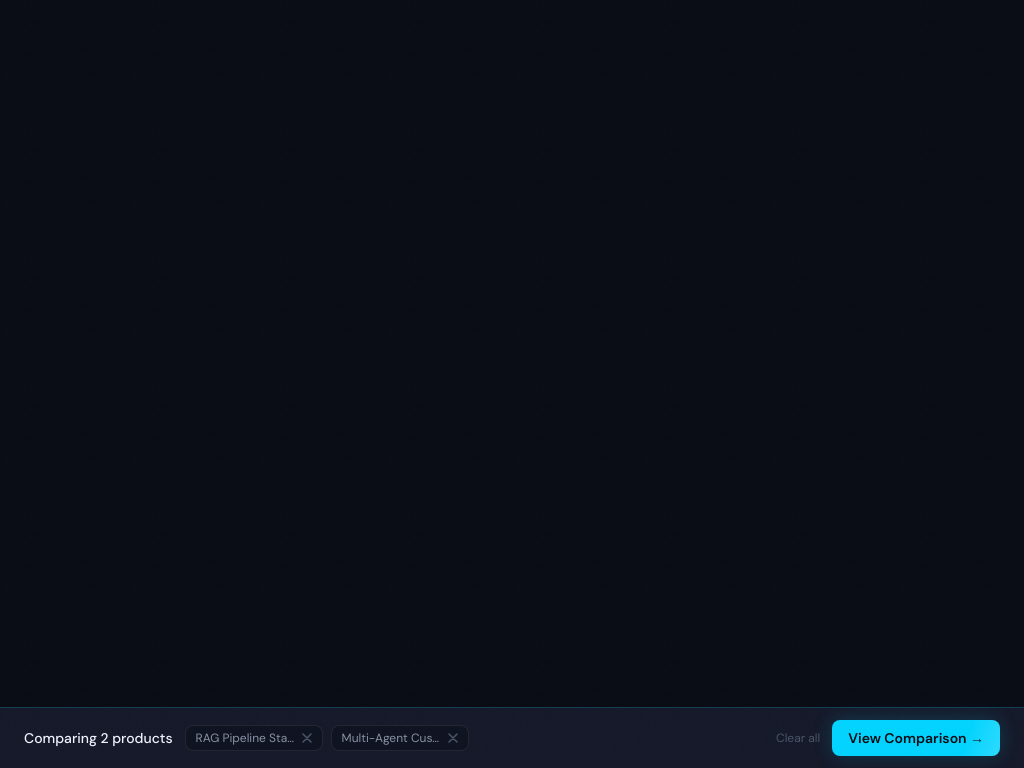
Test case: ComparisonBar › opens comparison modal when View Comparison is clicked
This screenshot has width=1024, height=768.
Click the button with test id "view-comparison-btn": point(916, 738) [832,720,1000,756]
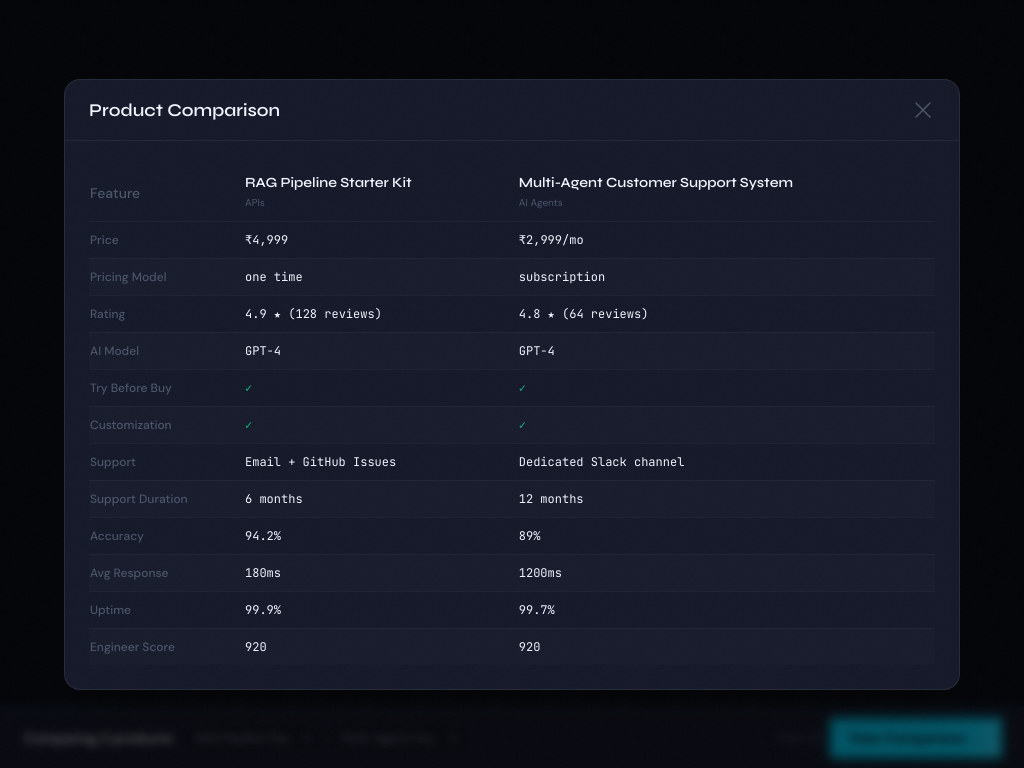
Expected: the element with test id "comparison-table" is shown
